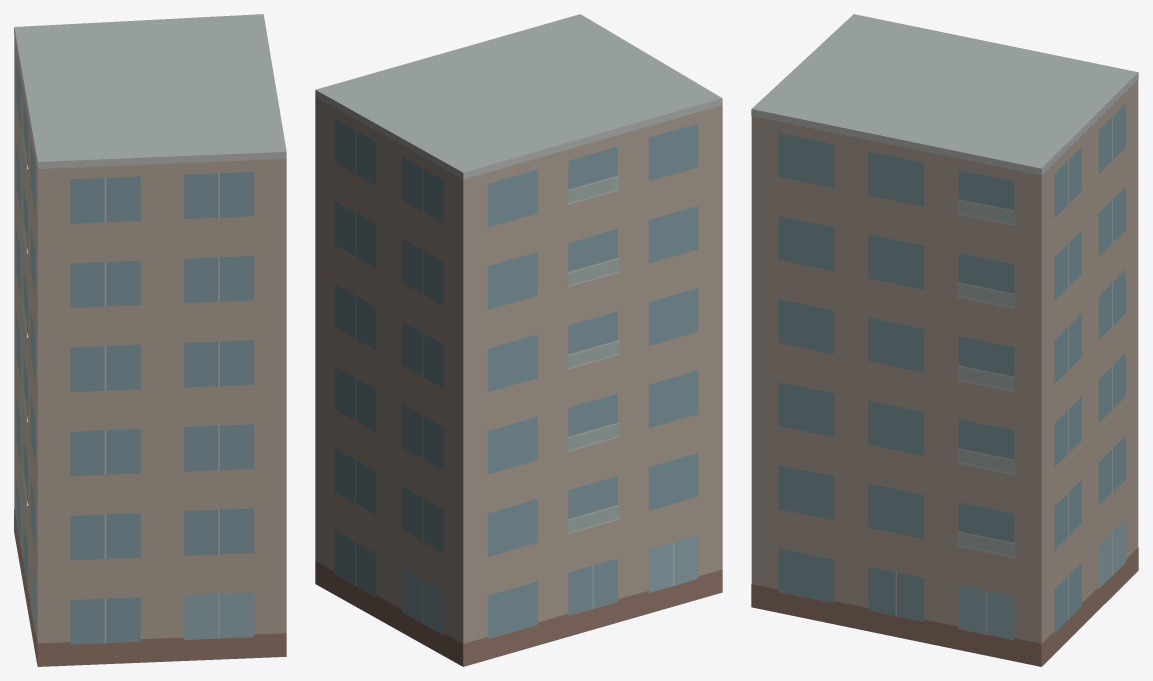
File: survey-upis-32530729.glb
3 renders of one model, left to right at view 1: azimuth 30°, elevation 25°; view 2: azimuth 150°, elevation 25°; view 3: azimuth 270°, elevation 25°, orthographic. The views are drawn at different scales.
Visible parts, largest first — view 1: survey-upis-32530729.tmp; view 2: survey-upis-32530729.tmp; view 3: survey-upis-32530729.tmp.
Boxes of the visible parts, x1=… form: survey-upis-32530729.tmp: x1=14, y1=14, x2=286, y2=666; survey-upis-32530729.tmp: x1=315, y1=14, x2=722, y2=666; survey-upis-32530729.tmp: x1=751, y1=14, x2=1138, y2=666.
Bounding box in the file's own units: 11.65 × 17.5 × 12.33.
